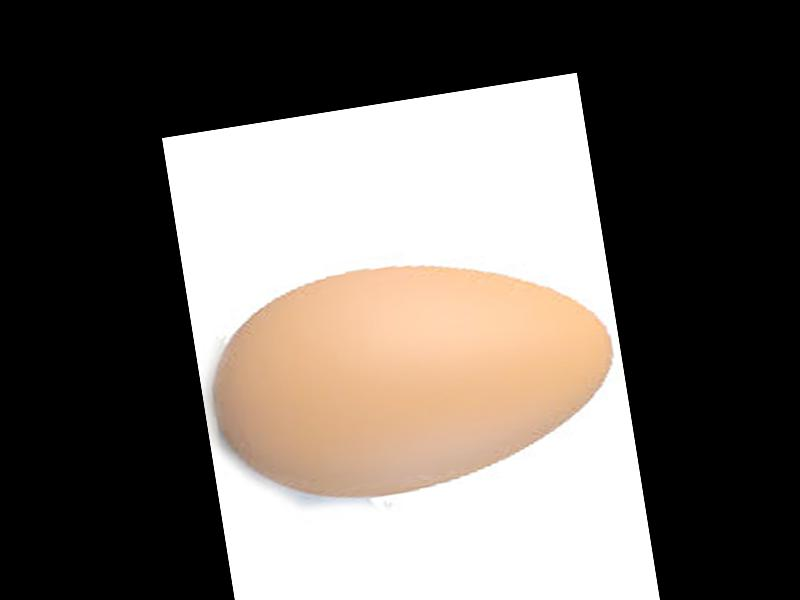Eggs: (196, 233, 626, 518)
